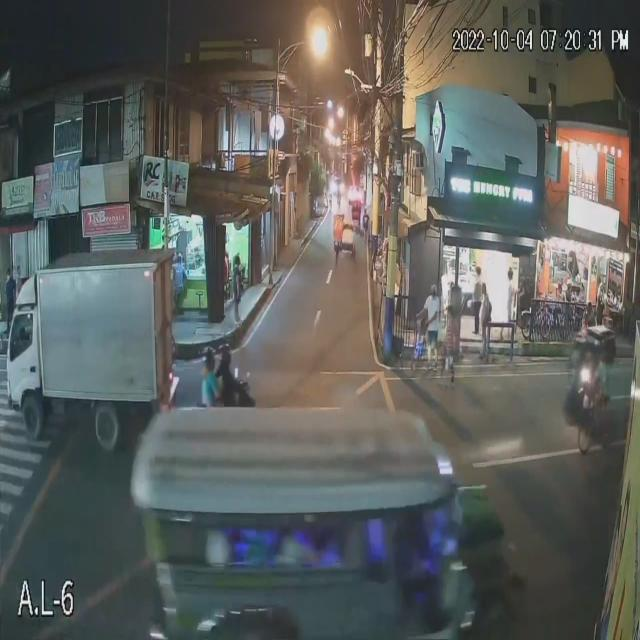Full-Faced: (200, 337, 217, 370), (218, 344, 234, 370)
